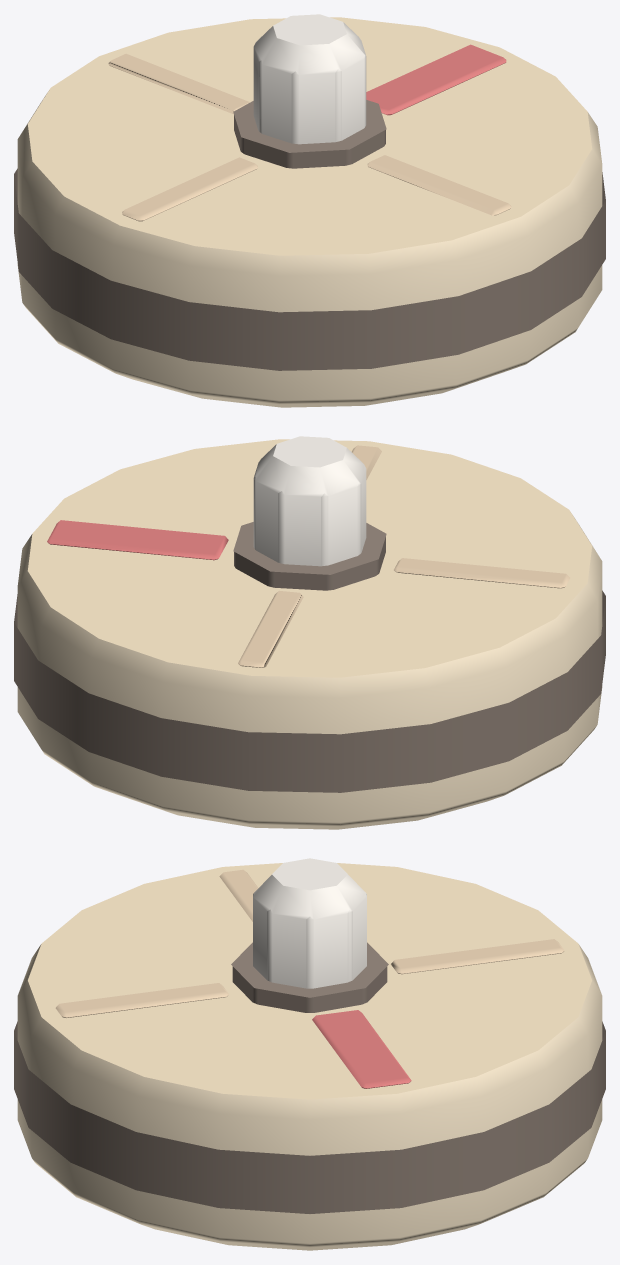
File: mover_mill_wheel.glb
3 views of the same model, one above another, from view 1: azimuth 30°, elevation 25°; view 2: azimuth 150°, elevation 25°; view 3: azimuth 270°, elevation 25° (orthographic).
Parts seen in each view (by area): view 1: mover_mill_wheel; view 2: mover_mill_wheel; view 3: mover_mill_wheel.
Boxes of the visible parts, x1,y1,x2,y2 form: mover_mill_wheel: [14, 14, 605, 407]; mover_mill_wheel: [14, 436, 605, 829]; mover_mill_wheel: [14, 858, 605, 1250].
Bounding box in the file's own units: 2.02 × 1 × 2.02.
